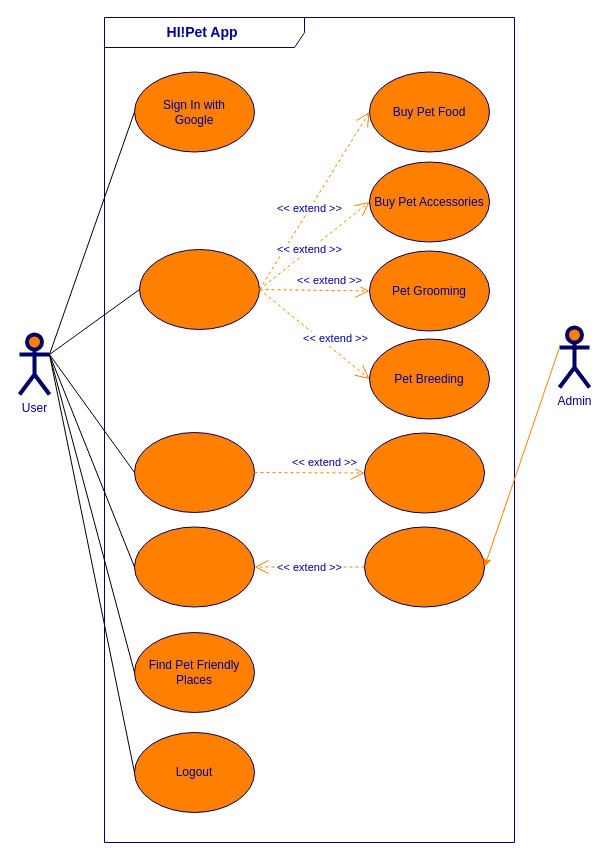
Some shapes in this 608 by 860 pixel diagram are drawn without their labels. The shapes that lost their labels are listed below. From the top down, each one's centre as x and y in pixels, then its label:
(199,289): Choose Store
(194,472): Choose Clinic
(424,472): Choose Pet Category
(194,566): Upload Bukti Pembayaran
(424,566): Confirmation
